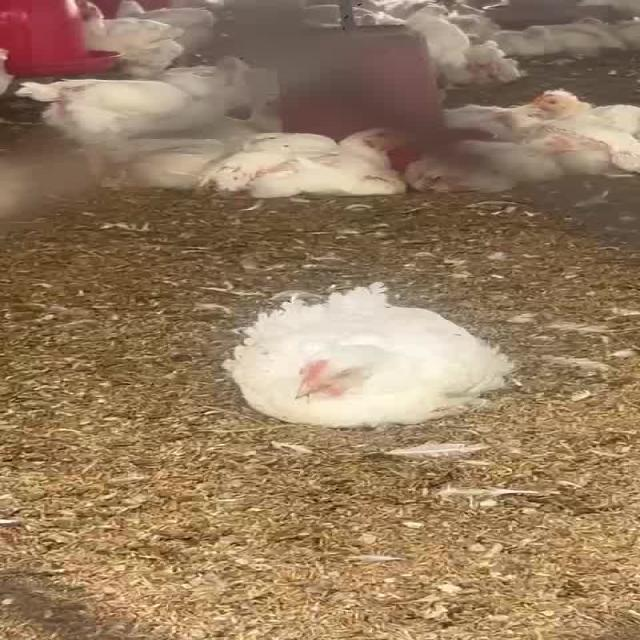AbNormal: (246, 296, 479, 424), (194, 125, 412, 203), (420, 136, 580, 192), (538, 82, 640, 130)
